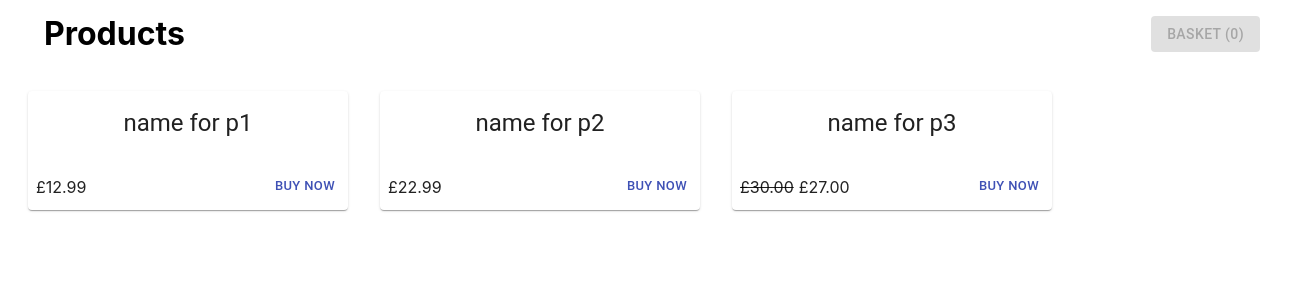
Test case: single product › should show the whole list when the page is closed
Click the button "name for p1" at (188, 127), box x1=28 y1=91 x2=348 y2=163
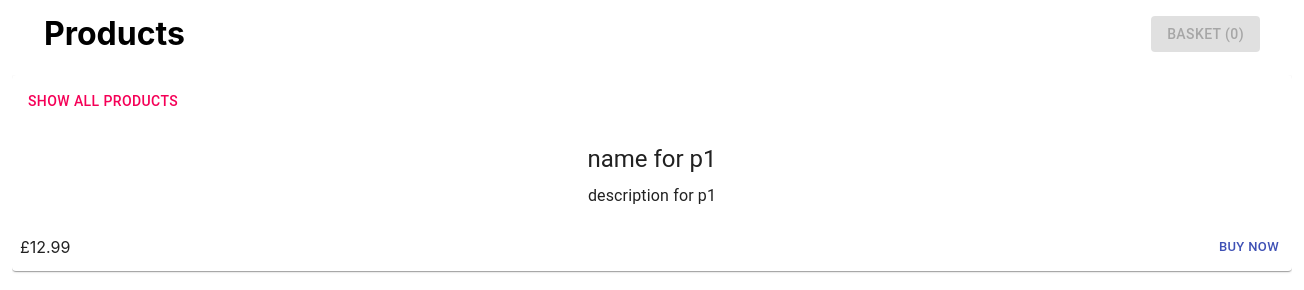
Click the button "Show all products" at (103, 101), box x1=20 y1=83 x2=186 y2=119
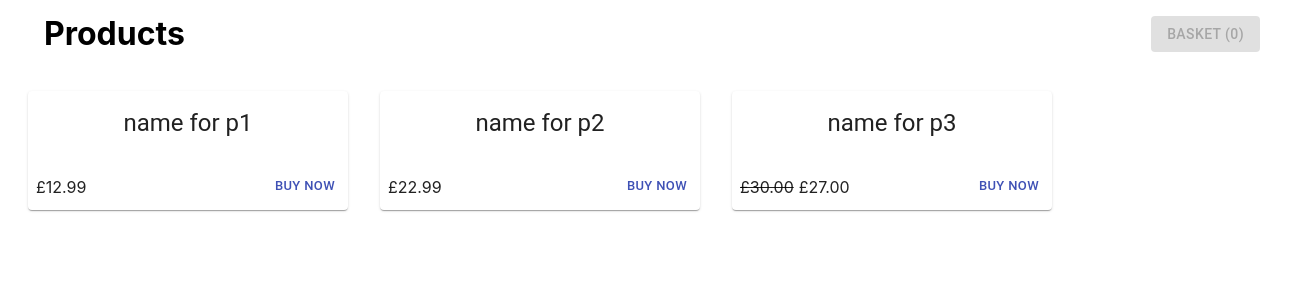
Expected: the number of buttons "Buy Now" is 3, x1=270 y1=171 x2=340 y2=202; x1=622 y1=171 x2=692 y2=202; x1=974 y1=171 x2=1044 y2=202
